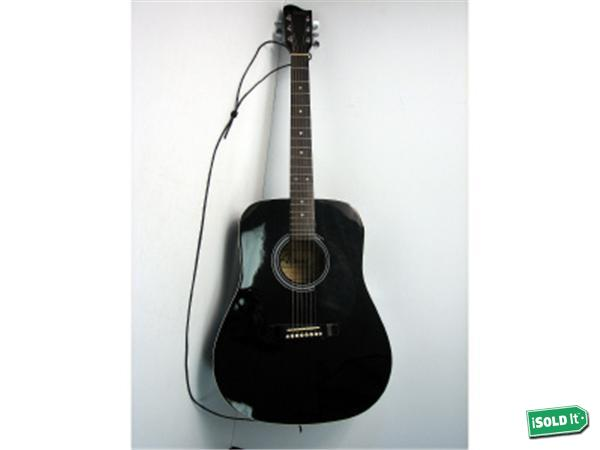guitar: (208, 5, 394, 424)
